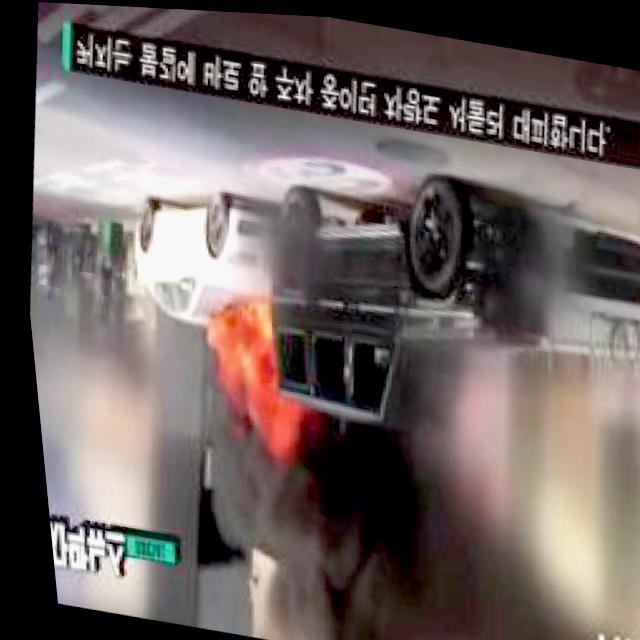helmet: (182, 290, 289, 425)
no_helmet: (159, 416, 343, 640)
